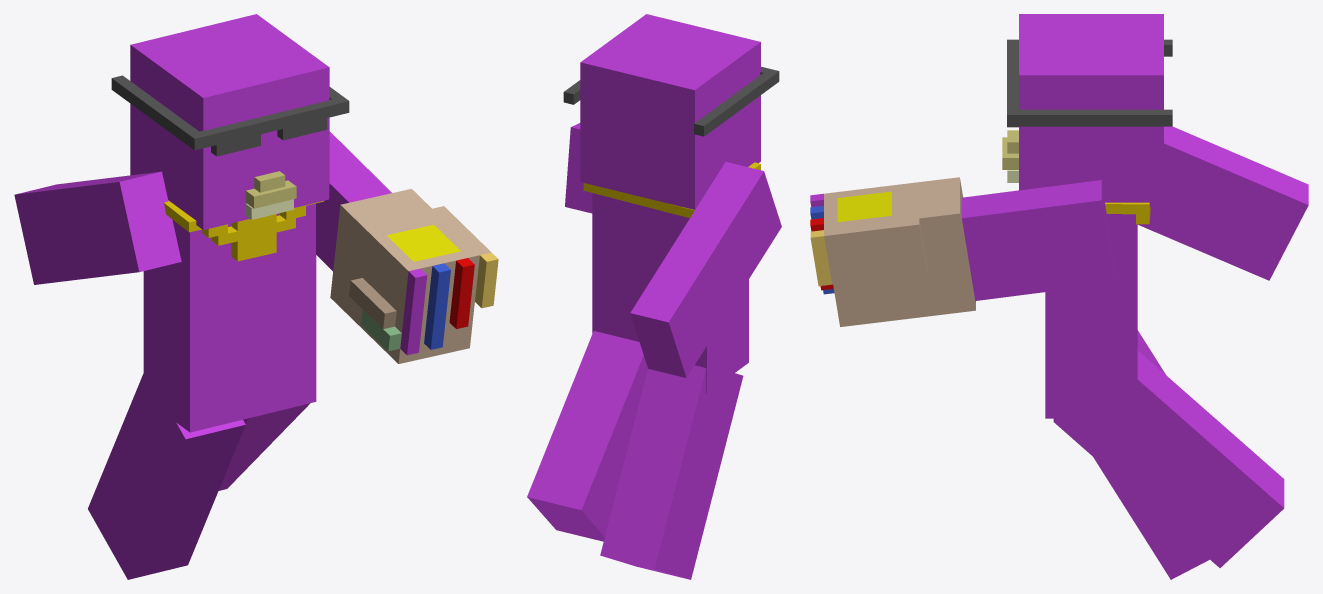
The model's file is donnie5.gltf.
The picture shows the model from 3 angles, left to right: view 1: azimuth 30°, elevation 25°; view 2: azimuth 150°, elevation 25°; view 3: azimuth 270°, elevation 25°; orthographic projection. The views are drawn at different scales.
Parts seen in each view (by area): view 1: body, Head, leg.1, arm.1 (×2), cube_9, arm, cube, leg, cube.1, cube_2.1, cube_8, cube_7 (+9 smaller); view 2: Head, leg.1, arm.1, leg, body, cube_2.1, arm, cube_2; view 3: Head, leg, arm, arm.1, body, cube_5, cube_12, leg.1, cube_1.1, cube_8, cube_6, cube (+3 smaller).
Boxes of the visible parts, x1,y1,x2,y2 form: body: (143,203,316,432); Head: (130,14,329,229); leg.1: (88,373,245,579); arm.1 (×2): (14,171,296,284); cube_9: (330,202,413,356); arm: (316,132,391,271); cube: (391,248,479,363); leg: (218,403,309,490); cube.1: (199,99,338,147); cube_2.1: (111,75,205,150); cube_8: (352,191,433,235); cube_7: (231,214,276,261); Head: (580,14,760,209); leg.1: (600,365,743,579); arm.1: (630,162,781,377); leg: (527,331,647,541); body: (592,193,748,393); cube_2.1: (694,68,779,136); arm: (565,123,592,213); cube_2: (592,185,694,217); Head: (1019,14,1163,206); leg: (1053,350,1284,567); arm: (961,180,1114,300); arm.1: (1138,126,1308,280); body: (1045,214,1137,418); cube_5: (837,207,975,325); cube_12: (824,218,927,284); leg.1: (1093,330,1209,579); cube_1.1: (1007,109,1172,126); cube_8: (892,183,962,215); cube_6: (837,191,891,222); cube: (824,192,853,326).
Bounding box in the file's own units: 1.24 × 2.71 × 2.28.
